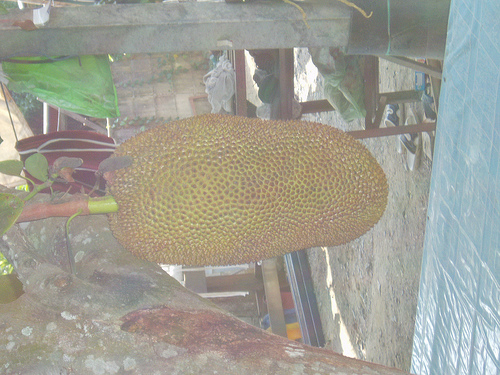jackfruit: (85, 112, 389, 266)
